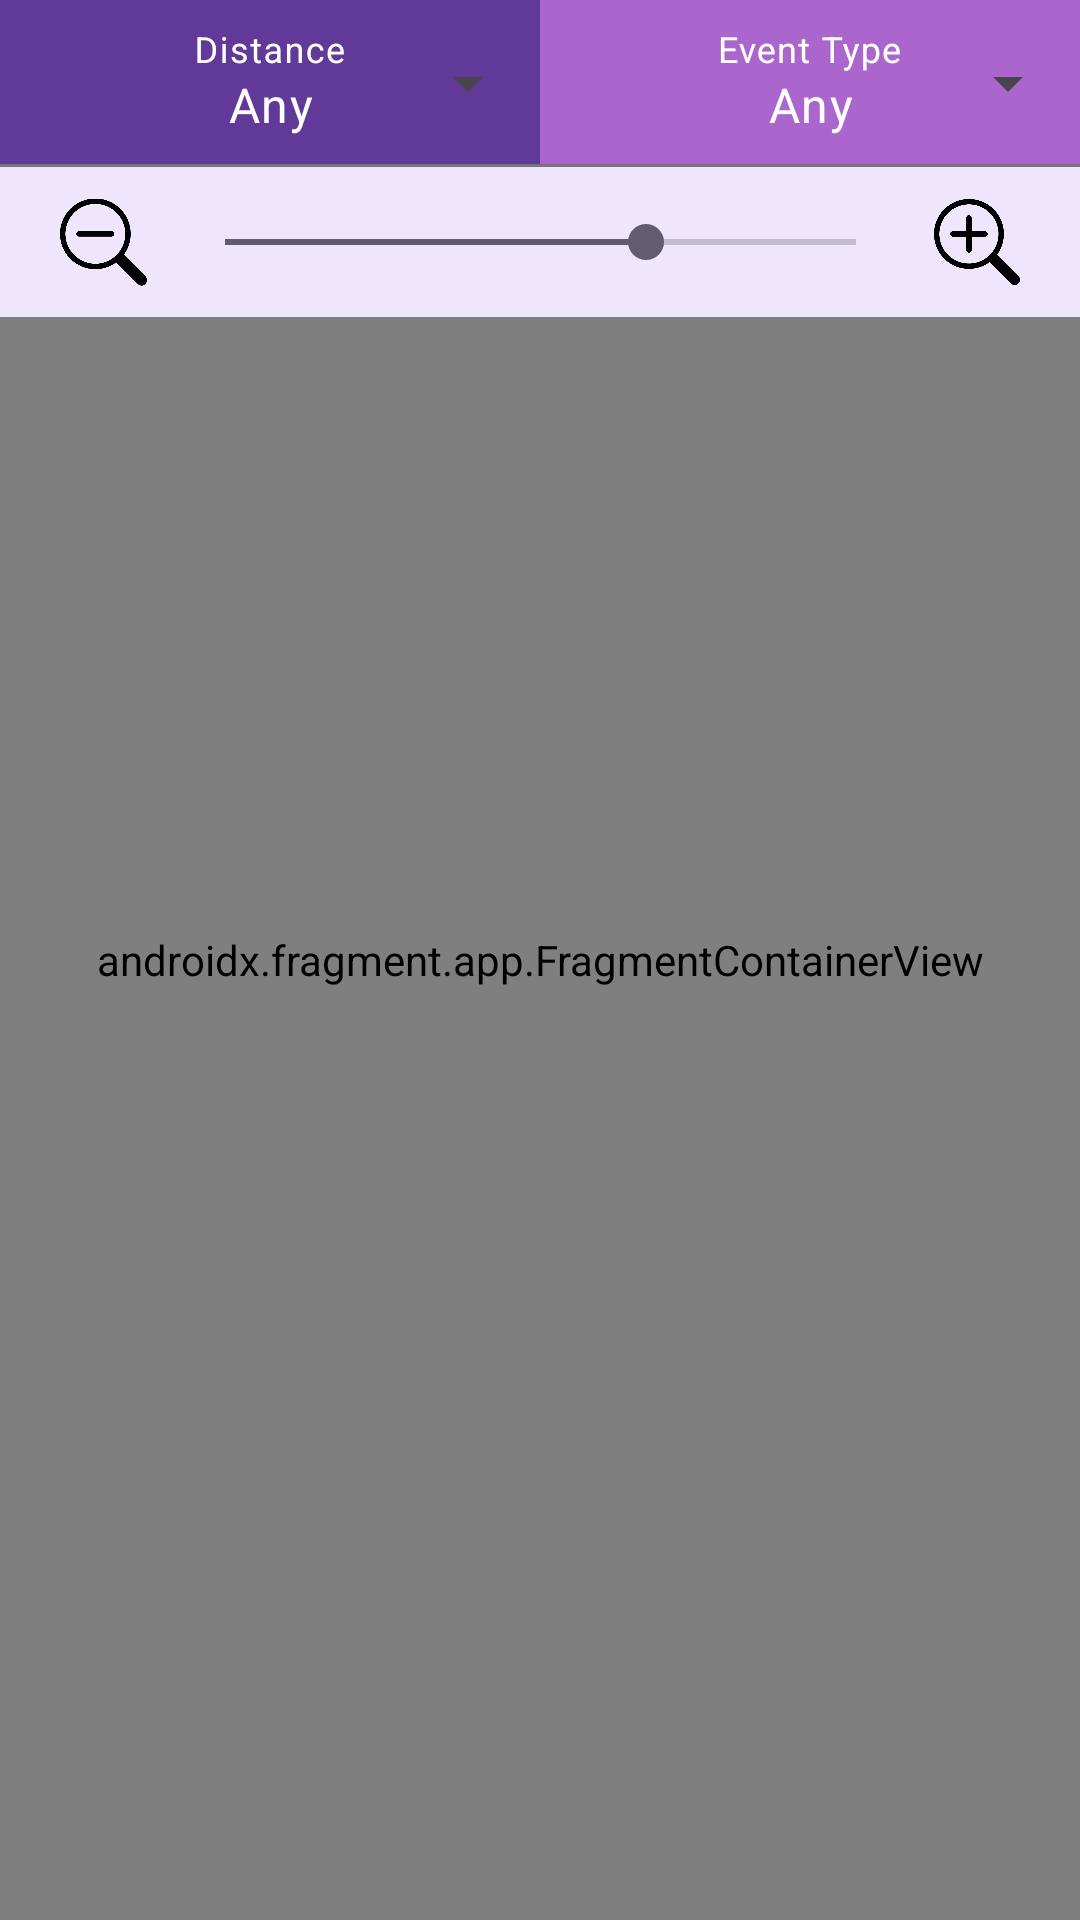

Where icons sit on this 1080×1920 app screen, as box(x1, y1, x2, y2):
minuszoom: box(60, 199, 147, 286)
pluszoom: box(934, 199, 1020, 285)
